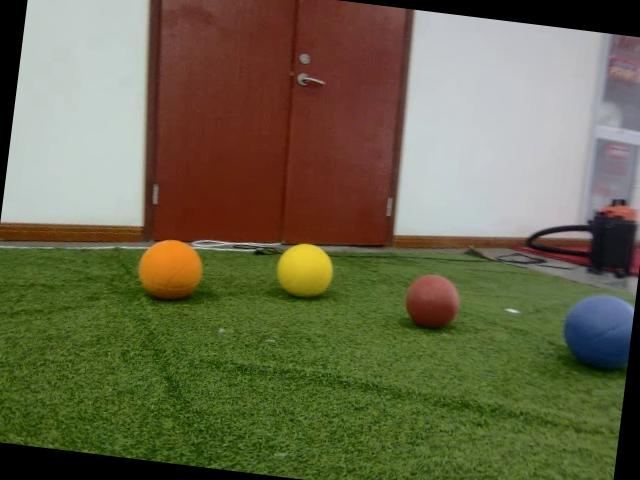blue_ball: (559, 292, 635, 374)
orange_ball: (134, 234, 208, 306)
red_ball: (403, 270, 463, 332)
yellow_ball: (274, 240, 336, 302)
